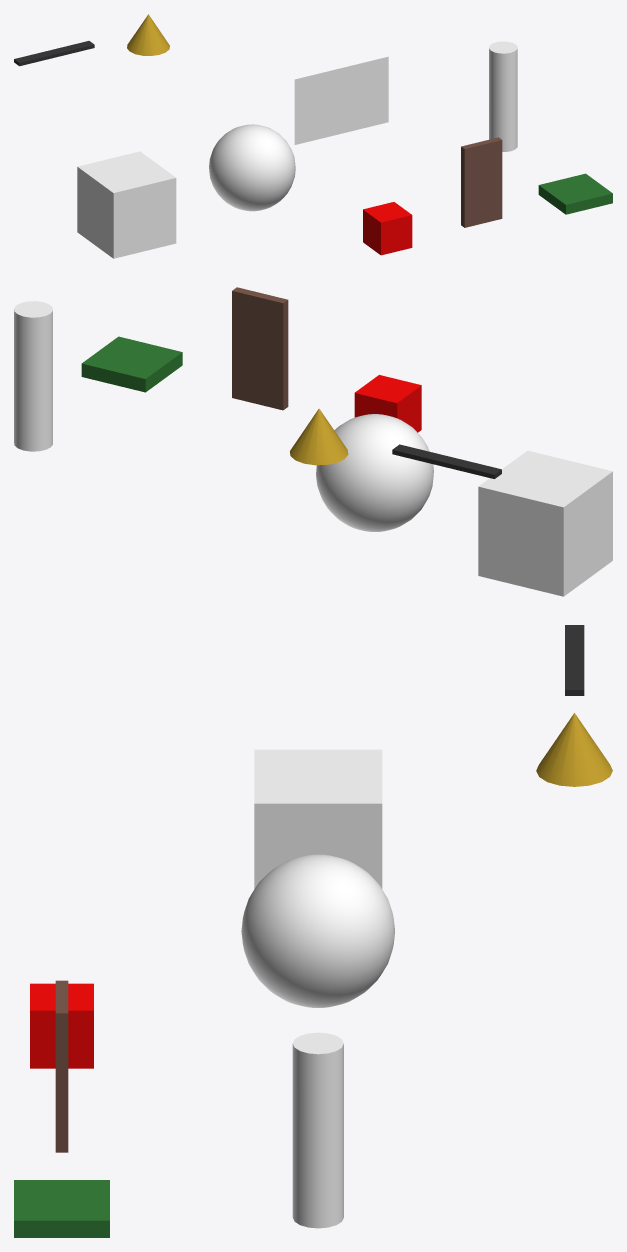
The model's file is kit.glb.
The picture shows the model from 3 angles, top to bottom: view 1: azimuth 30°, elevation 25°; view 2: azimuth 150°, elevation 25°; view 3: azimuth 270°, elevation 25°; orthographic projection. The views are drawn at different scales.
Parts seen in each view (by area): view 1: Crate, Panel, Orb, Door, Column, Ghost, LiftBody, BellBody, Blade; view 2: Crate, Orb, Door, Column, LiftBody, Ghost, BellBody, Blade; view 3: Orb, Crate, Column, LiftBody, Ghost, BellBody, Door, Blade.
Boxes of the visible parts, x1=… form: Crate: x1=77, y1=151, x2=176, y2=258; Panel: x1=294, y1=56, x2=388, y2=144; Orb: x1=209, y1=124, x2=295, y2=211; Door: x1=461, y1=137, x2=502, y2=227; Column: x1=489, y1=41, x2=517, y2=151; Ghost: x1=363, y1=202, x2=412, y2=255; LiftBody: x1=538, y1=173, x2=612, y2=214; BellBody: x1=127, y1=14, x2=169, y2=55; Blade: x1=14, y1=41, x2=94, y2=66; Crate: x1=478, y1=450, x2=612, y2=596; Orb: x1=316, y1=414, x2=433, y2=531; Door: x1=232, y1=287, x2=288, y2=410; Column: x1=14, y1=301, x2=52, y2=451; LiftBody: x1=81, y1=336, x2=182, y2=392; Ghost: x1=354, y1=375, x2=421, y2=432; BellBody: x1=290, y1=408, x2=348, y2=465; Blade: x1=392, y1=444, x2=501, y2=478; Orb: x1=241, y1=854, x2=394, y2=1007; Crate: x1=254, y1=749, x2=382, y2=888; Column: x1=292, y1=1032, x2=343, y2=1228; LiftBody: x1=14, y1=1180, x2=109, y2=1237; Ghost: x1=30, y1=983, x2=93, y2=1068; BellBody: x1=536, y1=713, x2=612, y2=786; Door: x1=55, y1=980, x2=68, y2=1152; Blade: x1=565, y1=625, x2=584, y2=695.
Size of what is drawn, in the model's own units: 13.95 by 4.5 by 9.35.
